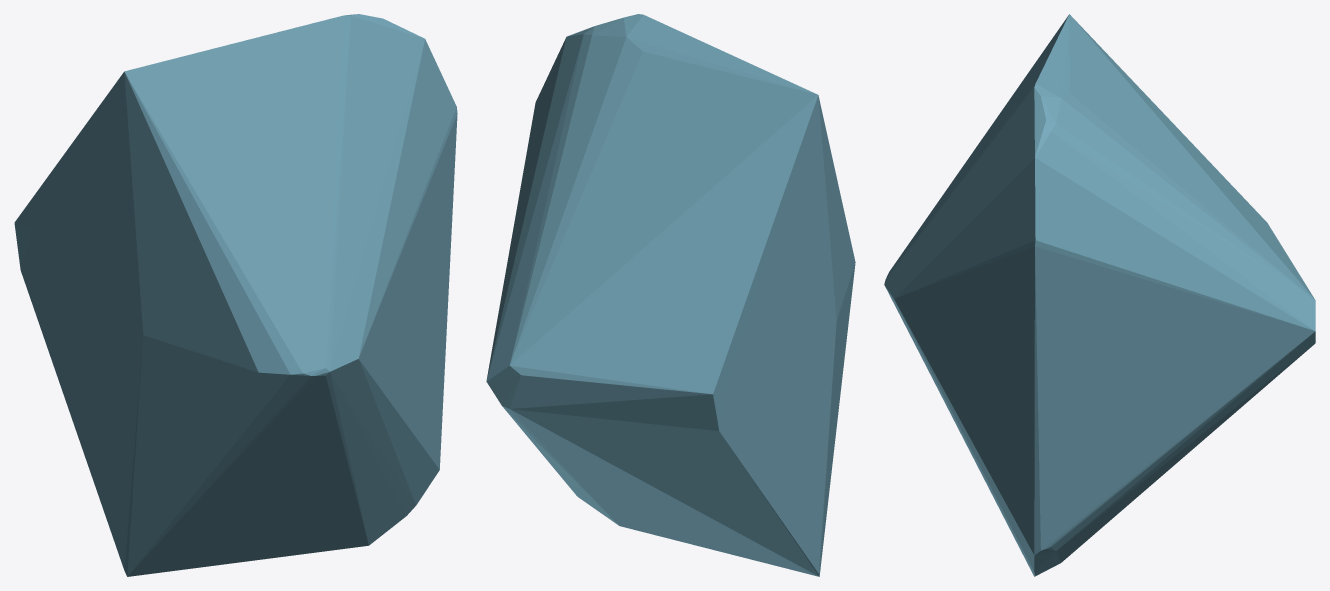
The model's file is washBasin_a01.glb.
3 renders of one model, left to right at view 1: azimuth 30°, elevation 25°; view 2: azimuth 150°, elevation 25°; view 3: azimuth 270°, elevation 25°, orthographic. The views are drawn at different scales.
Visible parts, largest first — view 1: geometry_0; view 2: geometry_0; view 3: geometry_0.
Boxes of the visible parts, bbox=[...] form: geometry_0: bbox=[14, 14, 457, 576]; geometry_0: bbox=[486, 14, 855, 576]; geometry_0: bbox=[884, 14, 1315, 576].
Bounding box in the file's own units: 0.2908 × 0.4739 × 0.3839.
